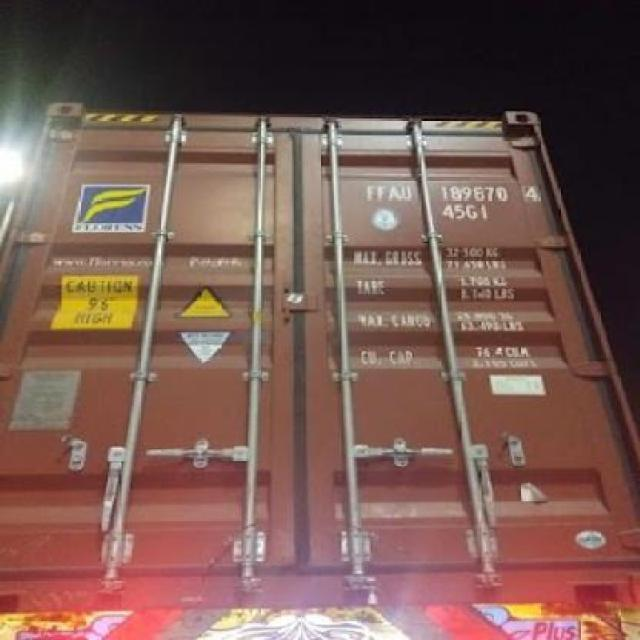ISO: (441, 202, 488, 222)
container_number: (360, 182, 542, 203)
